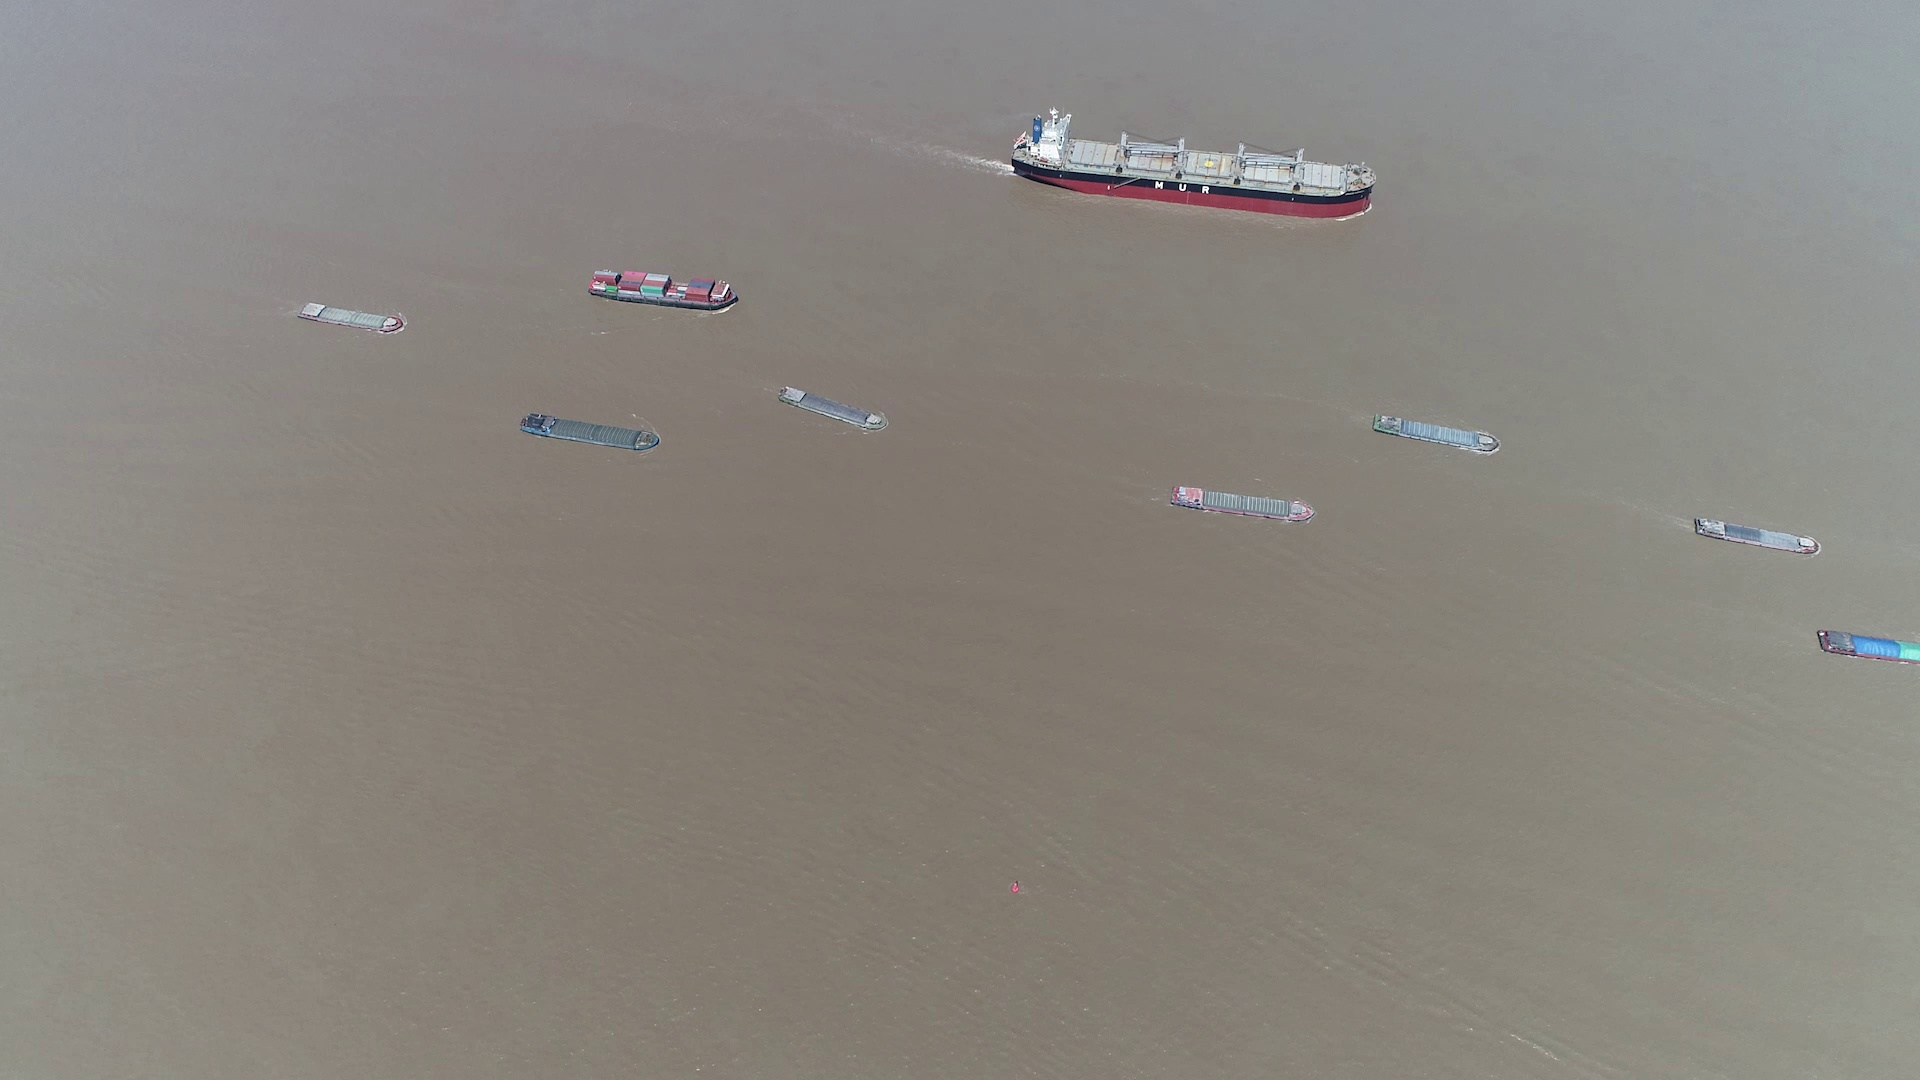ship: (1009, 111, 1373, 216), (589, 269, 738, 311), (1168, 485, 1313, 524), (520, 413, 659, 452), (1371, 413, 1498, 455), (1691, 516, 1822, 555), (778, 386, 889, 433), (1817, 626, 1919, 665), (297, 301, 405, 334)
